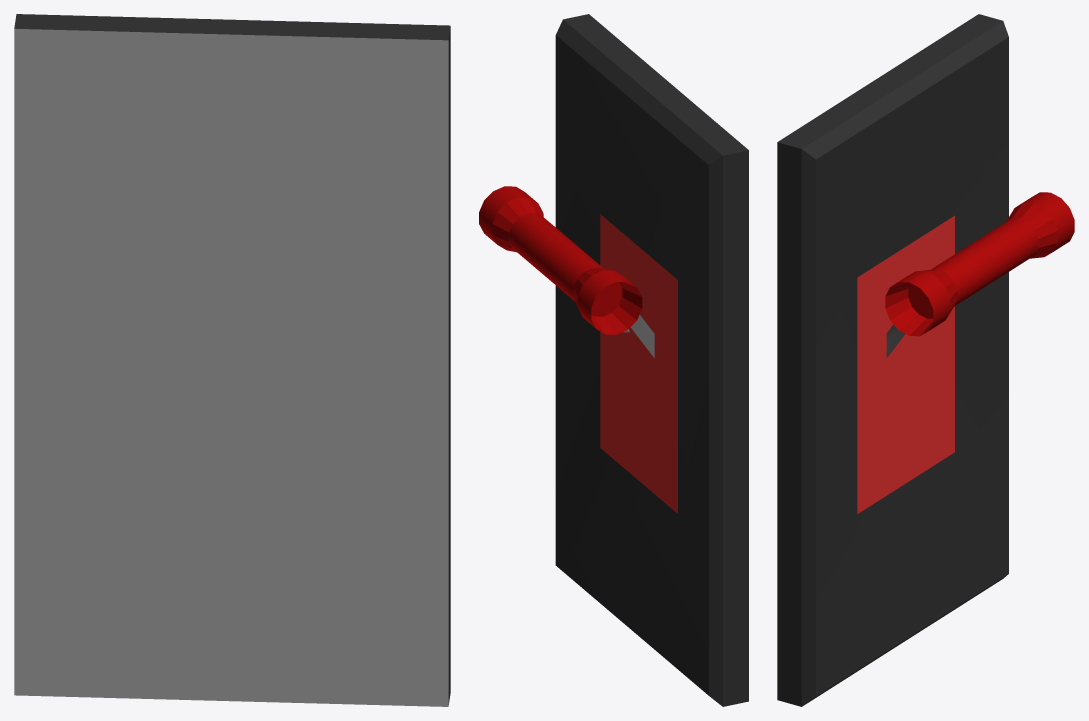
Rendered from Switcher.fbx.
3 views of the same model, side by side, from view 1: azimuth 30°, elevation 25°; view 2: azimuth 150°, elevation 25°; view 3: azimuth 270°, elevation 25° (orthographic). The views are drawn at different scales.
Parts seen in each view (by area): view 1: EmergencyPull:pCube4; view 2: EmergencyPull:pCube4; view 3: EmergencyPull:pCube4.
Boxes of the visible parts, x1=… form: EmergencyPull:pCube4: x1=14, y1=14, x2=450, y2=706; EmergencyPull:pCube4: x1=479, y1=14, x2=748, y2=706; EmergencyPull:pCube4: x1=777, y1=14, x2=1074, y2=706.
Size of the model in its own units: 4.86 by 8.76 by 4.23.
